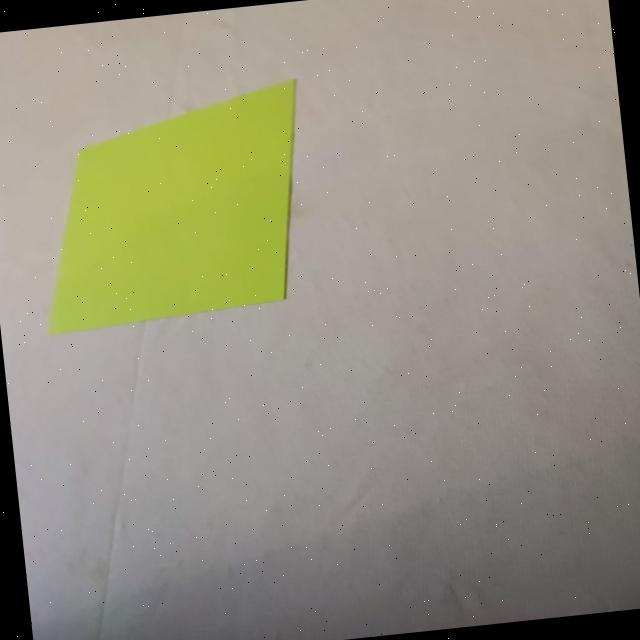Boxes: (47, 77, 298, 336)
